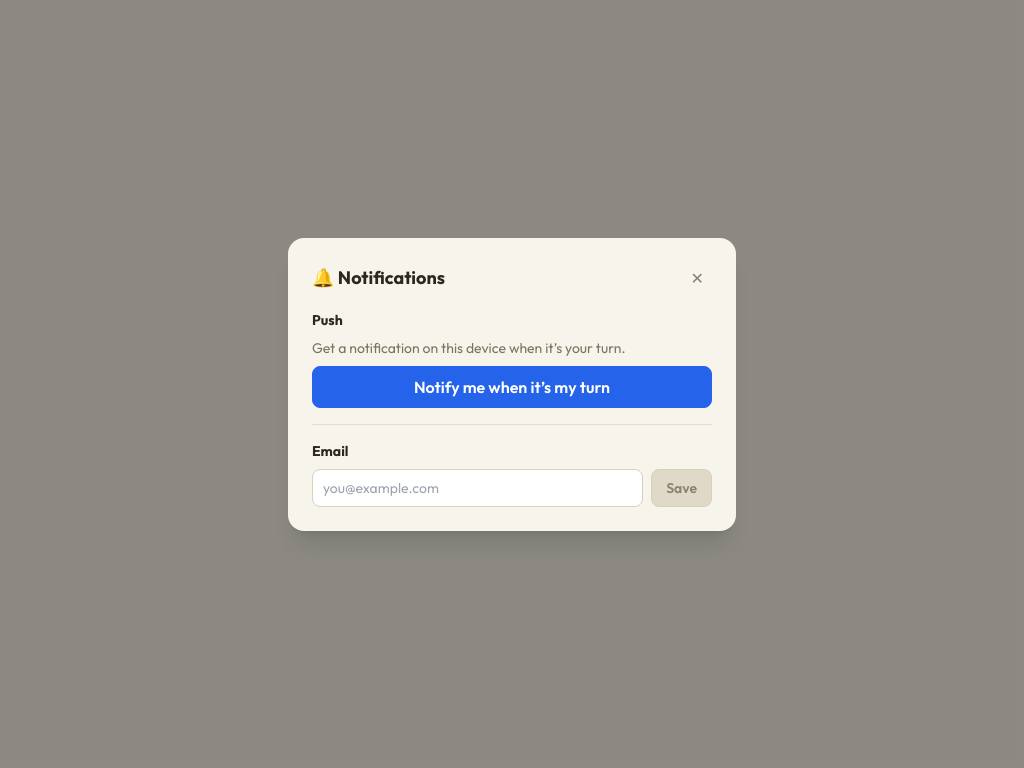
Test: NotificationSettings › a 503 says email is not available on this server
In the field named "Email address": [478, 488] box [312,468,643,506], type "pete@example.com"
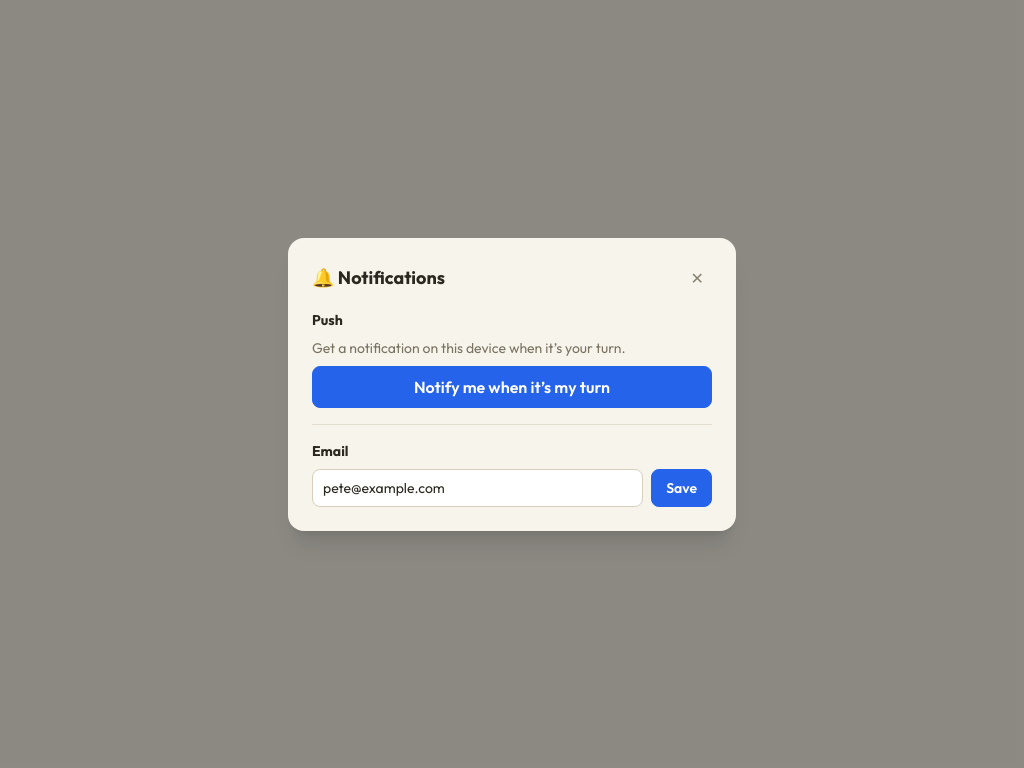
Click the button "Save": [682, 488] box [651,468,712,506]
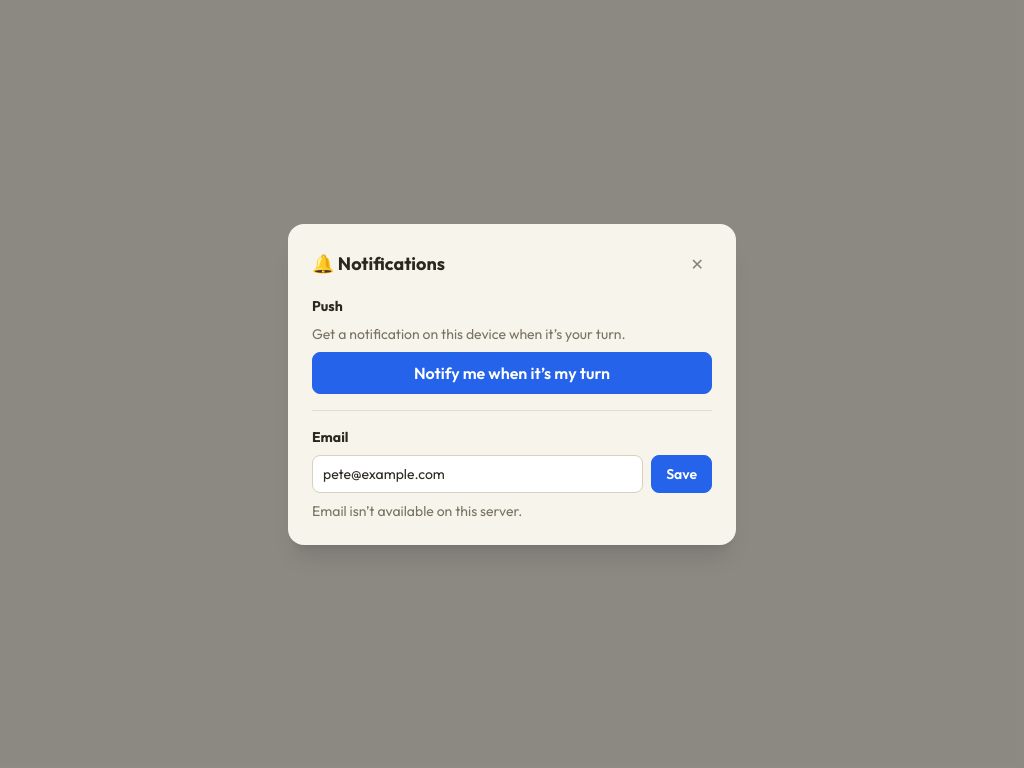
Expected: the text "Email isn’t available on this server." is shown, [312,502,522,520]
